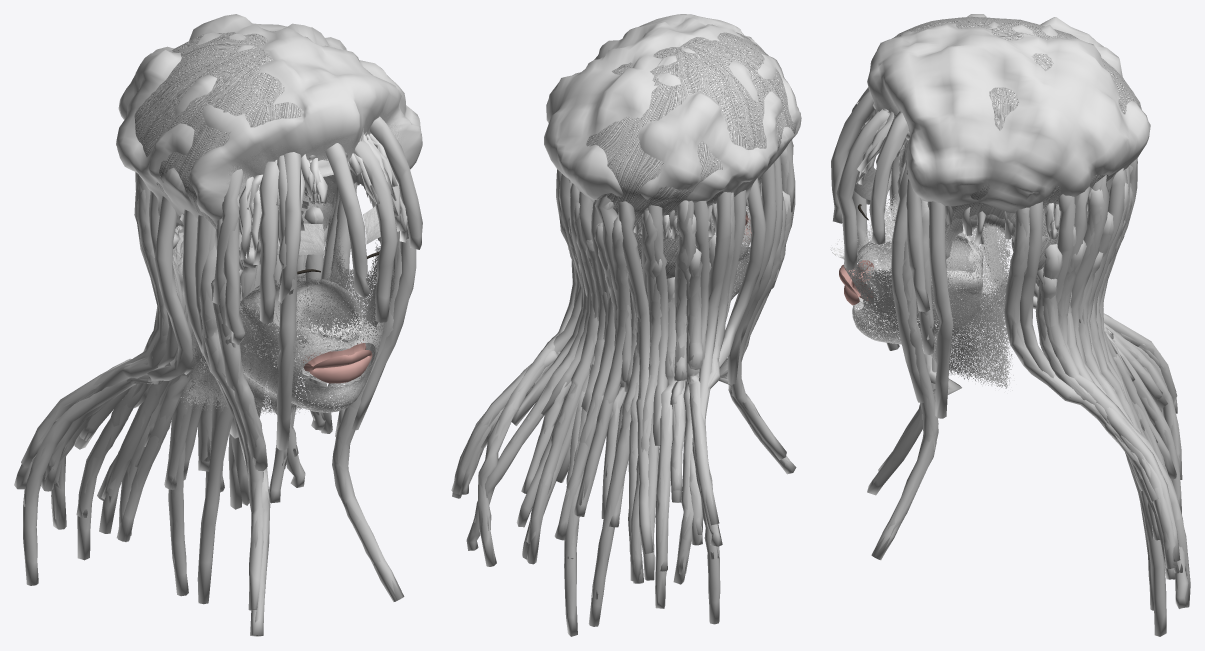
Rendered from NC_Head_Male.fbx.
3 renders of one model, left to right at view 1: azimuth 30°, elevation 25°; view 2: azimuth 150°, elevation 25°; view 3: azimuth 270°, elevation 25°, orthographic. The views are drawn at different scales.
Visible parts, largest first — view 1: Hair_Locs, Hair_Locs_Cap, Hair_CurlyTop, StubbleHeavy, Hair_SidePart, Stubble, Hair_Twists, Lips, Brows_Straight; view 2: Hair_Locs, Hair_Locs_Cap, Hair_CurlyTop, Hair_SidePart, StubbleHeavy, Hair_Twists; view 3: Hair_Locs, Hair_CurlyTop, Hair_Locs_Cap, StubbleHeavy, Stubble, Hair_SidePart, Hair_Twists, Lips.
Part boxes in pixels (<box>): Hair_Locs: <box>14,116,422,631</box>; Hair_Locs_Cap: <box>21,177,403,636</box>; Hair_CurlyTop: <box>116,14,422,273</box>; StubbleHeavy: <box>176,225,395,414</box>; Hair_SidePart: <box>125,31,328,227</box>; Stubble: <box>189,235,392,412</box>; Hair_Twists: <box>175,133,408,270</box>; Lips: <box>301,340,372,383</box>; Brows_Straight: <box>277,216,380,255</box>; Hair_Locs: <box>452,140,795,636</box>; Hair_Locs_Cap: <box>451,147,796,626</box>; Hair_CurlyTop: <box>544,14,801,203</box>; Hair_SidePart: <box>567,32,796,278</box>; StubbleHeavy: <box>725,206,750,360</box>; Hair_Twists: <box>592,180,762,239</box>; Hair_Locs: <box>831,87,1190,636</box>; Hair_CurlyTop: <box>867,14,1150,287</box>; Hair_Locs_Cap: <box>867,165,1188,610</box>; StubbleHeavy: <box>830,194,1014,390</box>; Stubble: <box>845,215,1012,371</box>; Hair_SidePart: <box>892,16,1141,270</box>; Hair_Twists: <box>856,101,1109,256</box>; Lips: <box>839,260,873,305</box>.
Bounding box in the file's own units: 1.02 × 1.97 × 1.08.
8 materials, 6 textured.
